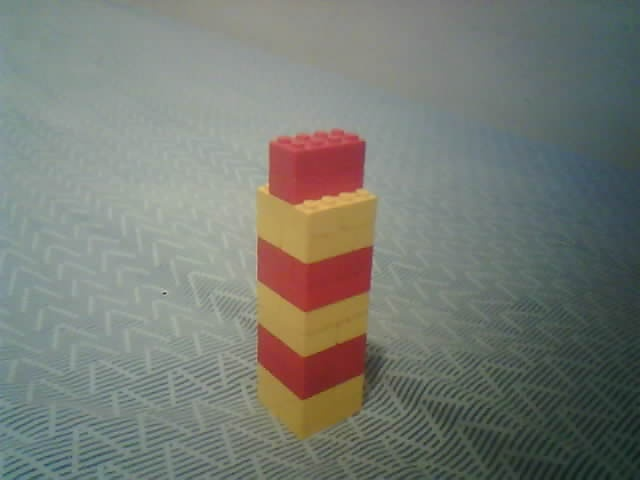lego: (252, 126, 378, 441)
